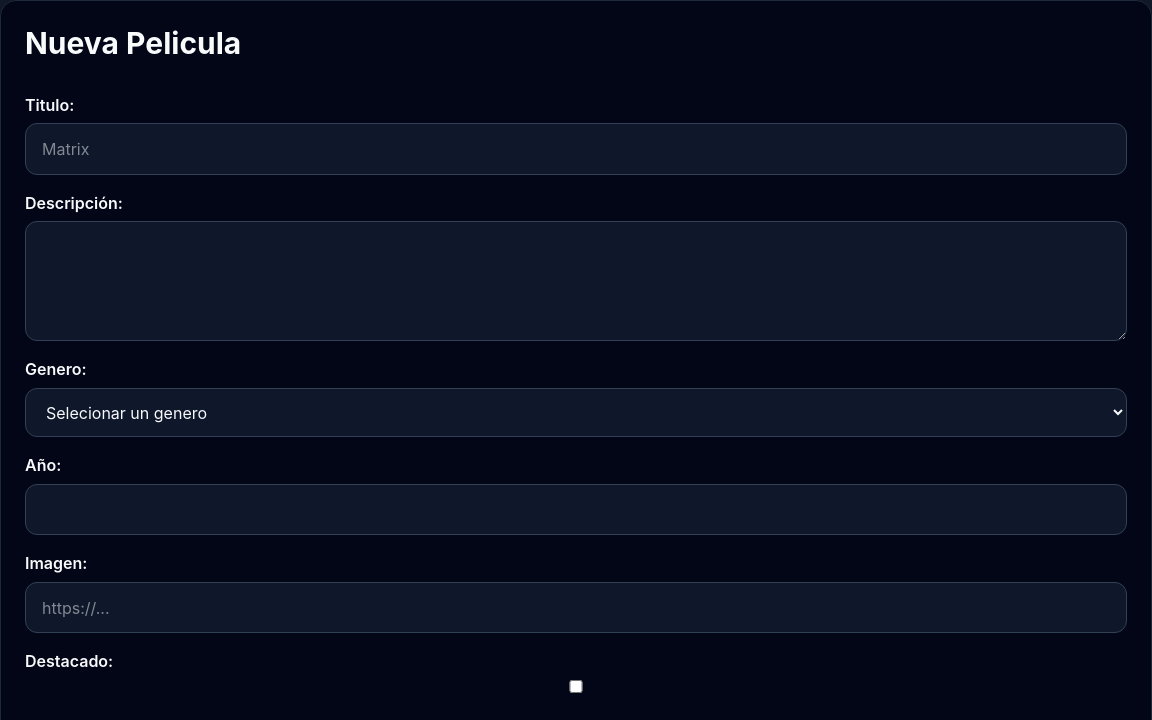
Test: MovieForm › espero que me permita completar los datos del formulario
Click the field labelled "Titulo:" at (576, 149), box [25,123,1127,175]
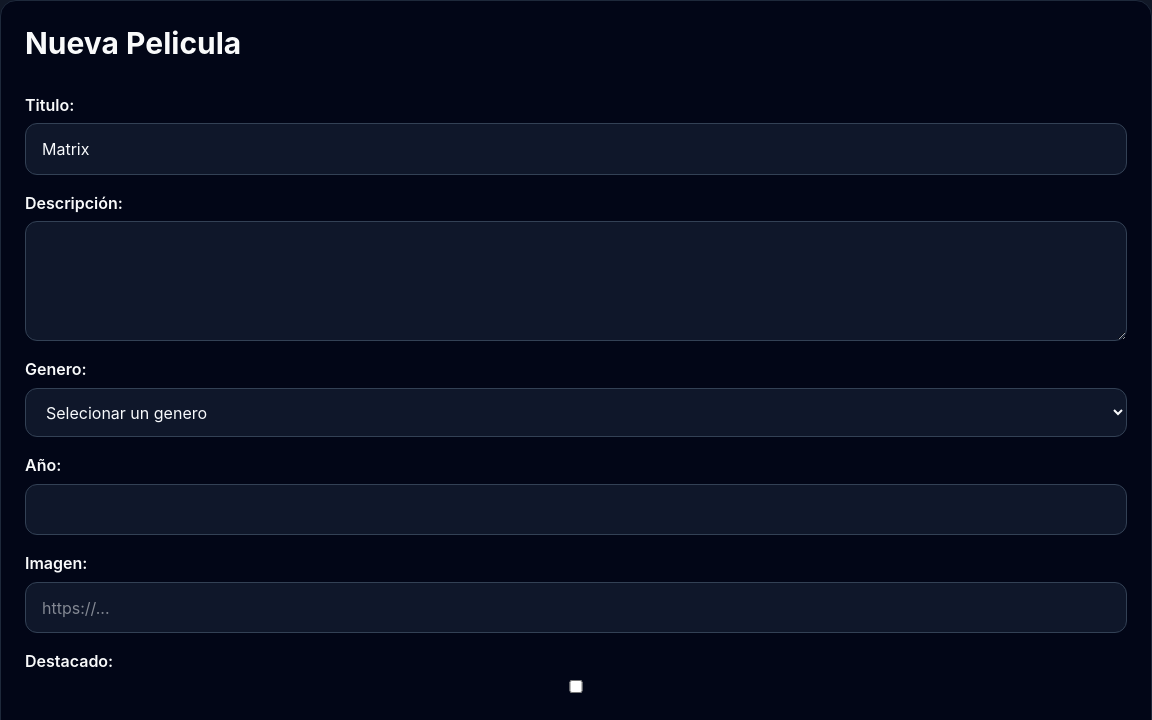
Click the number field labelled "Año:" at (576, 510), box [25,484,1127,535]
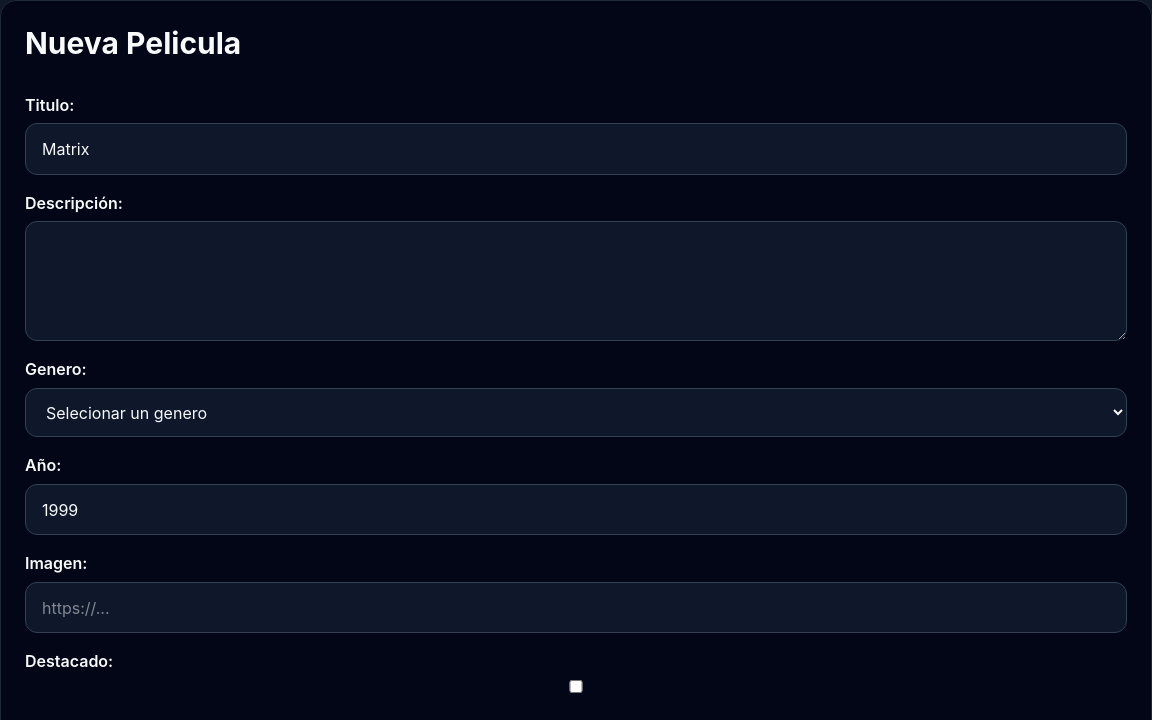
Expected: the field showing "Matrix" is shown, [25,123,1127,175]
Expected: the number field showing "1999" is shown, [25,484,1127,535]
